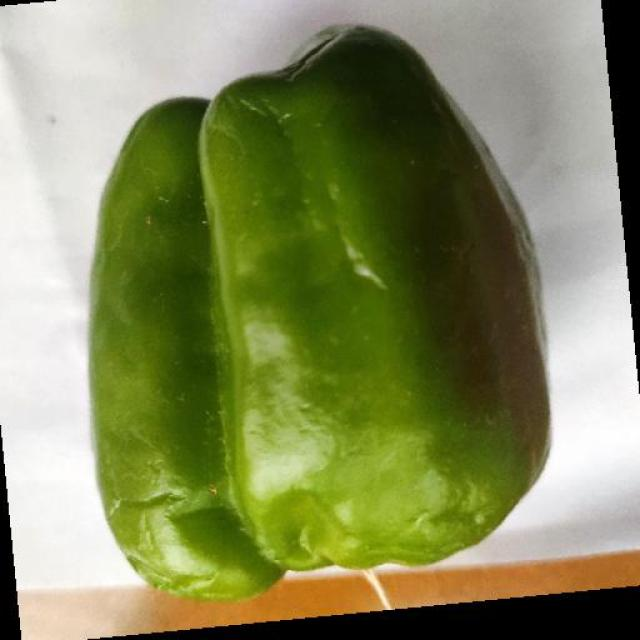Stale_Capsicum: (108, 40, 540, 640)
